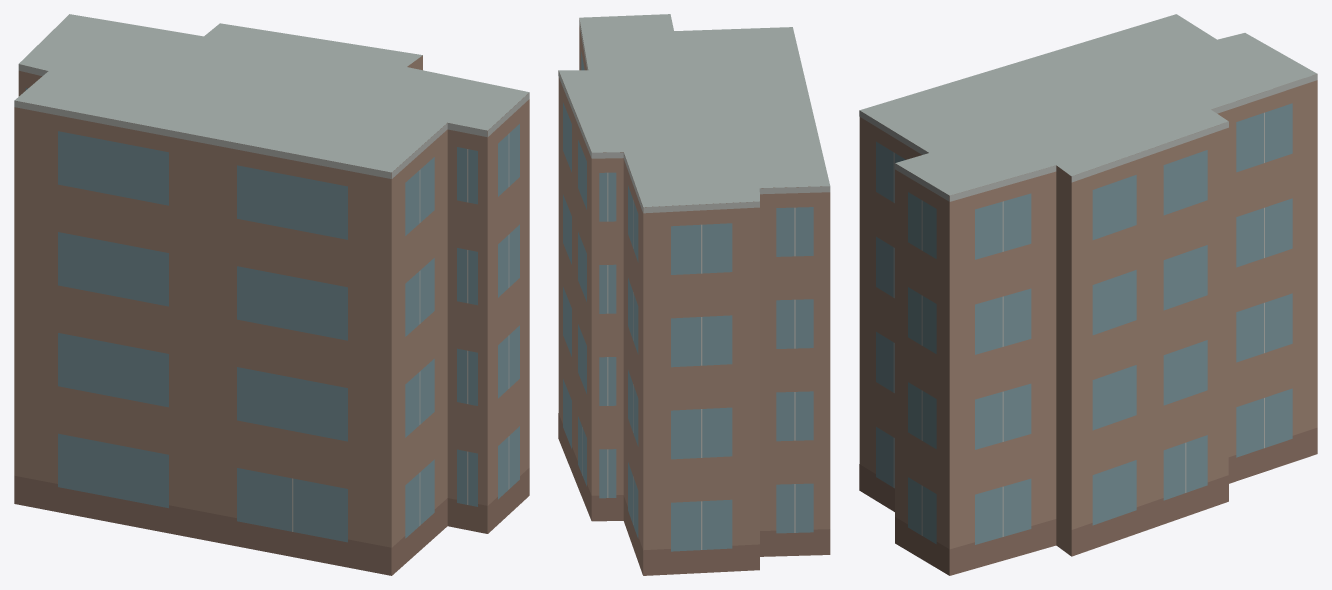
Rendered from survey-upis-32799802.glb.
The picture shows the model from 3 angles, left to right: view 1: azimuth 30°, elevation 25°; view 2: azimuth 150°, elevation 25°; view 3: azimuth 270°, elevation 25°; orthographic projection. The views are drawn at different scales.
Visible parts, largest first — view 1: survey-upis-32799802.tmp; view 2: survey-upis-32799802.tmp; view 3: survey-upis-32799802.tmp.
Boxes of the visible parts, x1=… form: survey-upis-32799802.tmp: x1=14, y1=14, x2=529, y2=575; survey-upis-32799802.tmp: x1=558, y1=14, x2=830, y2=575; survey-upis-32799802.tmp: x1=859, y1=14, x2=1317, y2=575.
Size of the model in its own units: 15.17 by 14.8 by 16.17.
